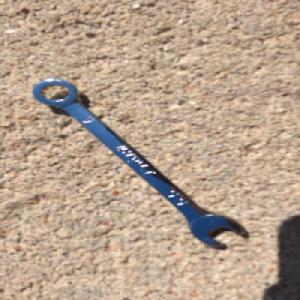Wrench: (28, 74, 248, 248)
